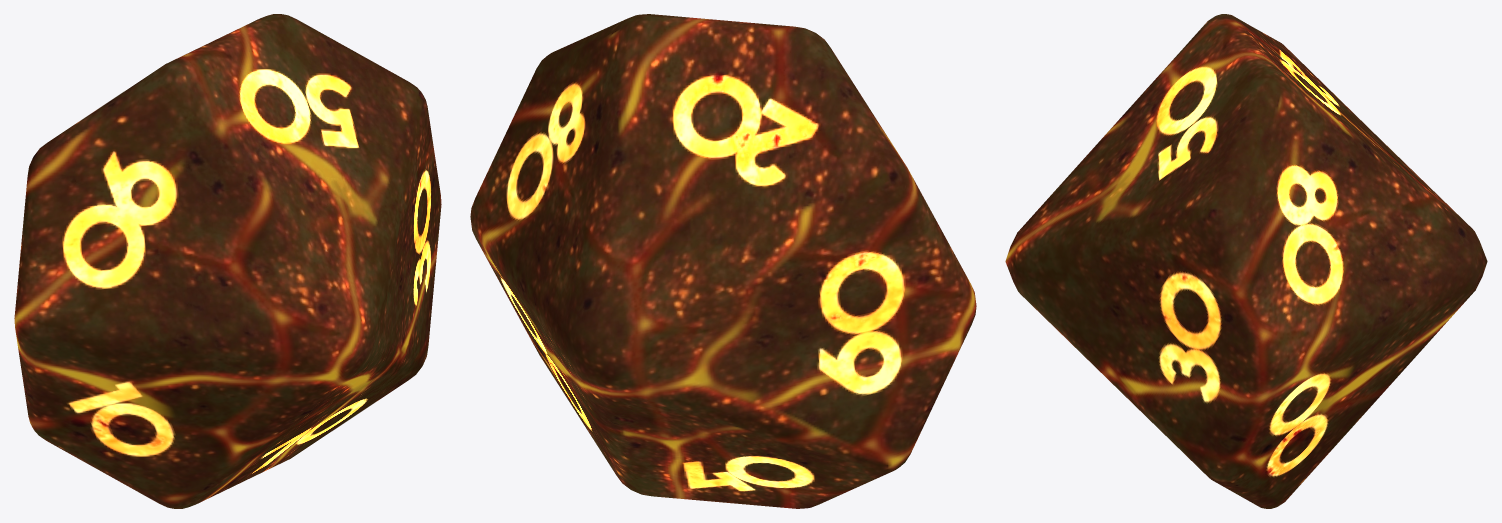
File: magma20_d100.gltf
3 views of the same model, side by side, from view 1: azimuth 30°, elevation 25°; view 2: azimuth 150°, elevation 25°; view 3: azimuth 270°, elevation 25° (orthographic). The views are drawn at different scales.
Parts seen in each view (by area): view 1: dice_100; view 2: dice_100; view 3: dice_100.
Part boxes in pixels (x1,y1,x2,y2): dice_100: (14, 14, 441, 508); dice_100: (470, 14, 976, 508); dice_100: (1005, 14, 1487, 508).
Size of the model in its own units: 171 by 164 by 165.
Materials: 1 (1 with a texture image).
